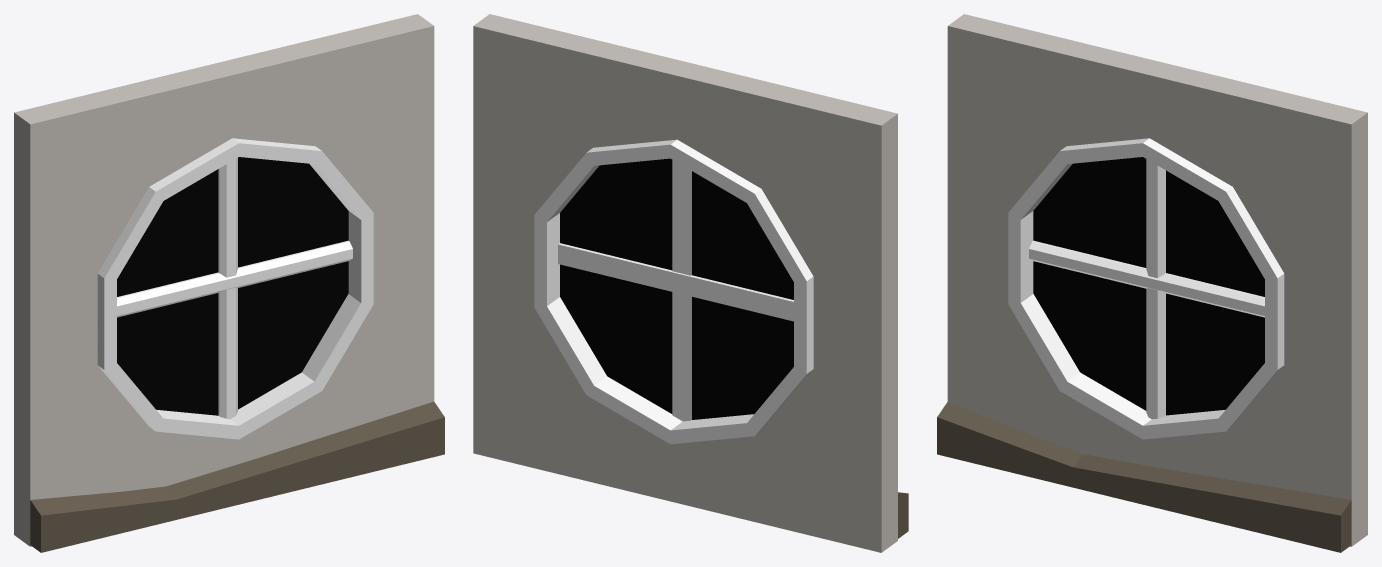
Rendered from _ROOF_TRIANGLE_WINDOW_ROUND_1.fbx.
3 views of the same model, side by side, from view 1: azimuth 30°, elevation 25°; view 2: azimuth 150°, elevation 25°; view 3: azimuth 330°, elevation 25° (orthographic).
Parts seen in each view (by area): view 1: ROOF_TRIANGLE_WINDOW_ROUND_1; view 2: ROOF_TRIANGLE_WINDOW_ROUND_1; view 3: ROOF_TRIANGLE_WINDOW_ROUND_1.
Boxes of the visible parts, x1,y1,x2,y2 form: ROOF_TRIANGLE_WINDOW_ROUND_1: [14, 14, 444, 552]; ROOF_TRIANGLE_WINDOW_ROUND_1: [473, 14, 908, 552]; ROOF_TRIANGLE_WINDOW_ROUND_1: [937, 14, 1367, 552].
Bounding box in the file's own units: 100 × 100 × 14.45.
